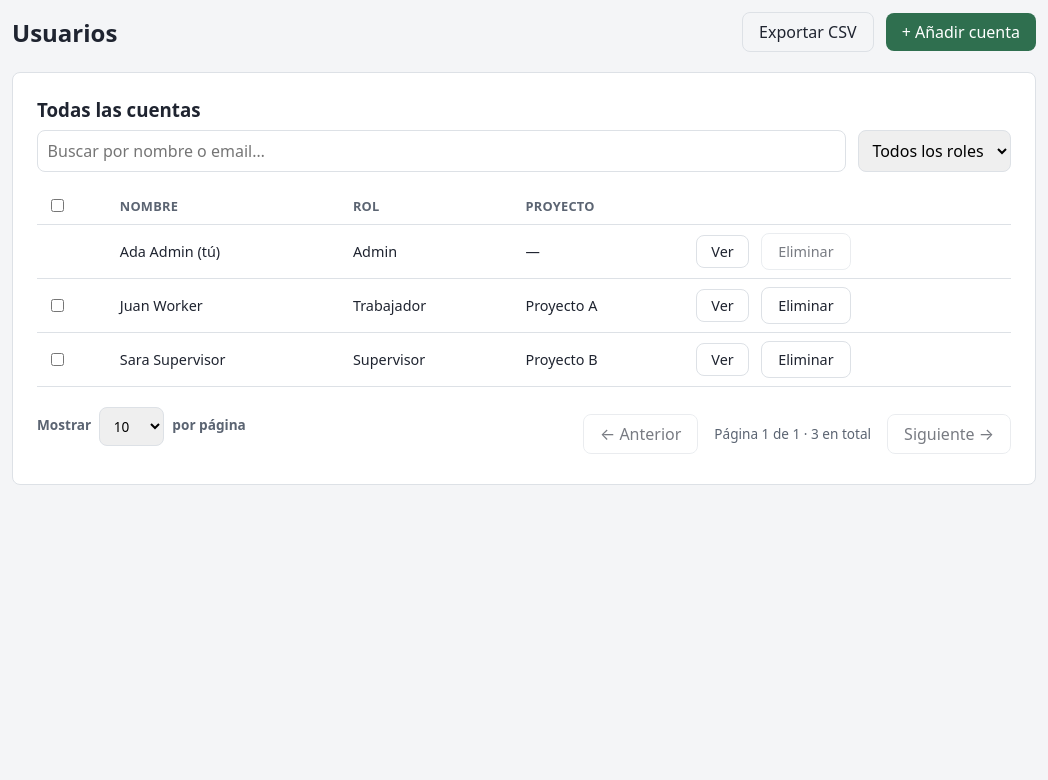
Scenario: AdminUsers › selecciona todos con la casilla de cabecera, sin incluir la propia cuenta
expect the text "Juan Worker" is shown: met, box [110,278,343,332]
Click the checkbox named "Seleccionar todos": (57,206) [51,199,64,212]
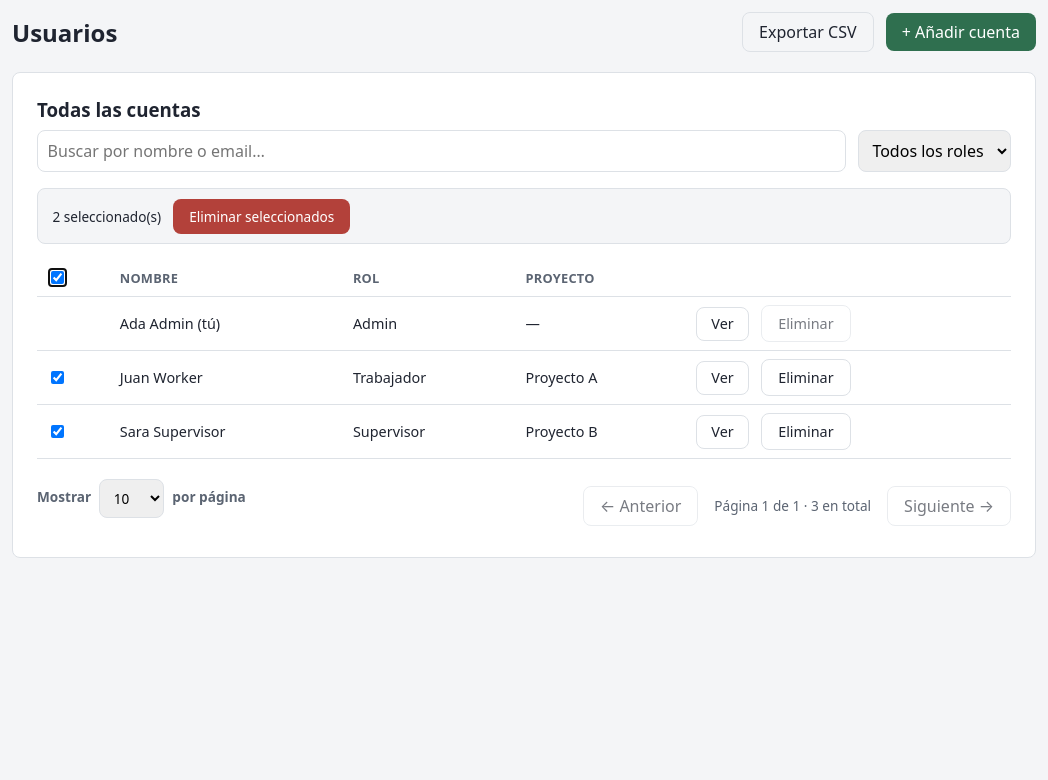
expect the text "2 seleccionado(s)" is shown: met, box [52,207,161,226]
